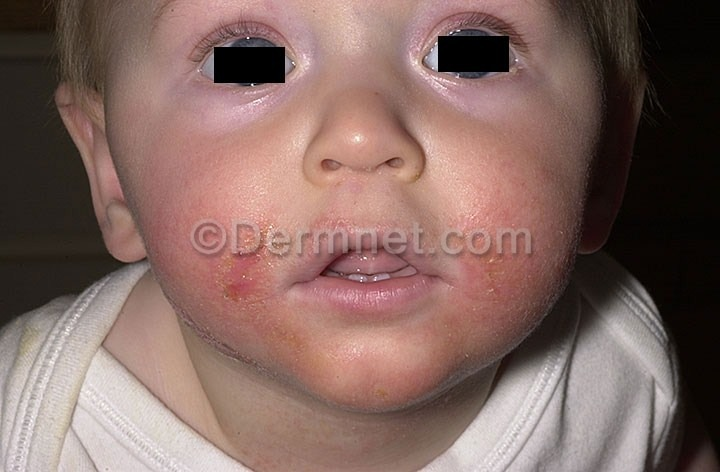Eczema: (456, 145, 581, 354), (147, 187, 283, 348), (298, 333, 443, 409)
